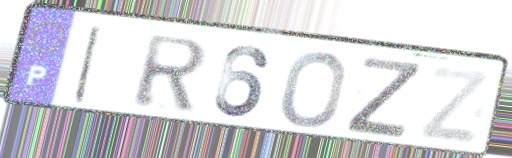6: (213, 44, 272, 120)
I: (69, 22, 106, 106)
O: (278, 49, 349, 130)
R: (130, 33, 212, 113)
Z: (341, 54, 425, 140), (415, 64, 494, 148)
